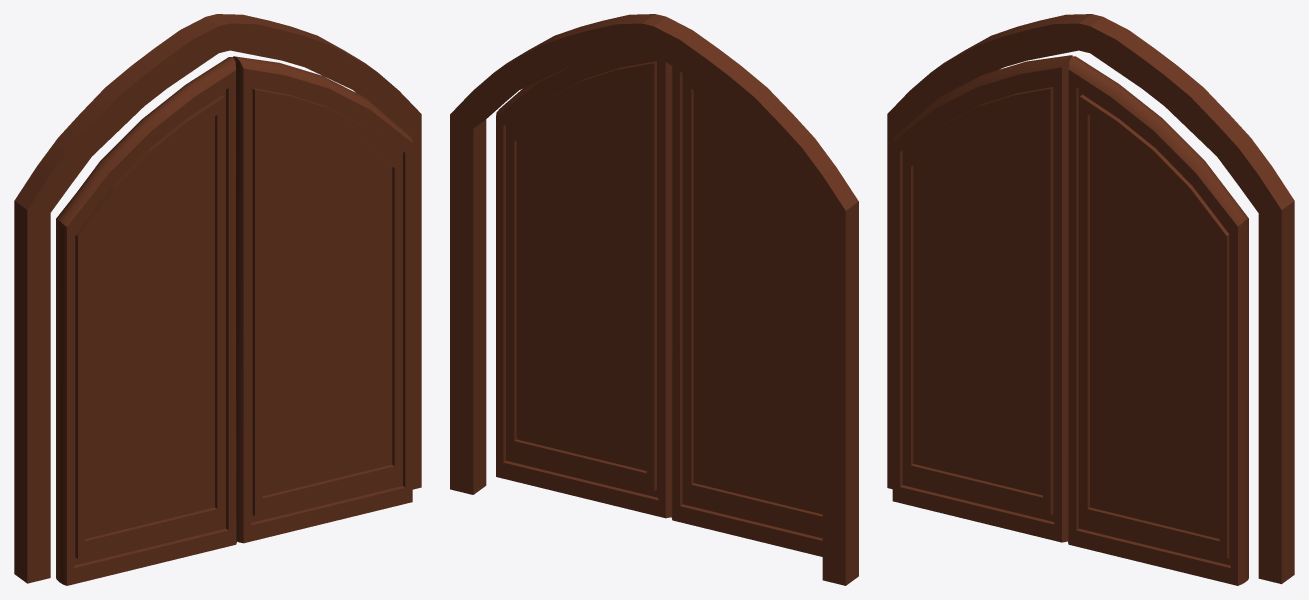
File: doa2.fbx
The picture shows the model from 3 angles, left to right: view 1: azimuth 30°, elevation 25°; view 2: azimuth 150°, elevation 25°; view 3: azimuth 330°, elevation 25°; orthographic projection.
Visible parts, largest first — view 1: pCube1, pCube2, pCube3; view 2: pCube2, pCube1, pCube3; view 3: pCube2, pCube1, pCube3.
Boxes of the visible parts, left/top/right/bottom form: pCube1: left=56, top=57, right=236, bottom=585; pCube2: left=233, top=56, right=412, bottom=543; pCube3: left=14, top=14, right=421, bottom=583; pCube2: left=496, top=50, right=672, bottom=518; pCube1: left=671, top=66, right=822, bottom=556; pCube3: left=450, top=14, right=858, bottom=585; pCube2: left=1068, top=56, right=1248, bottom=585; pCube1: left=892, top=55, right=1072, bottom=542; pCube3: left=887, top=14, right=1294, bottom=584.
Bounding box in the file's own units: 17.55 × 21.73 × 2.35.
